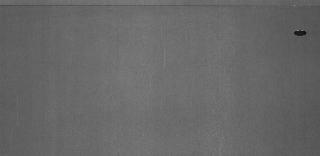punching hole: (290, 27, 312, 39)
welding line: (1, 2, 320, 12)
